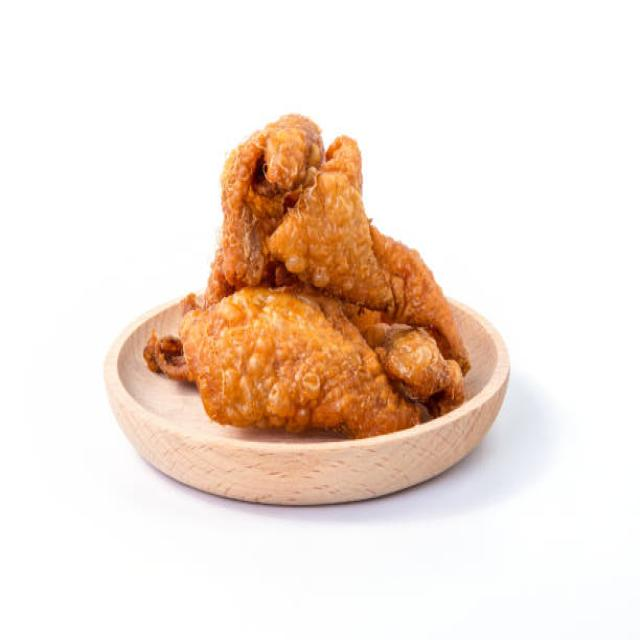Frango: (143, 115, 477, 448)
